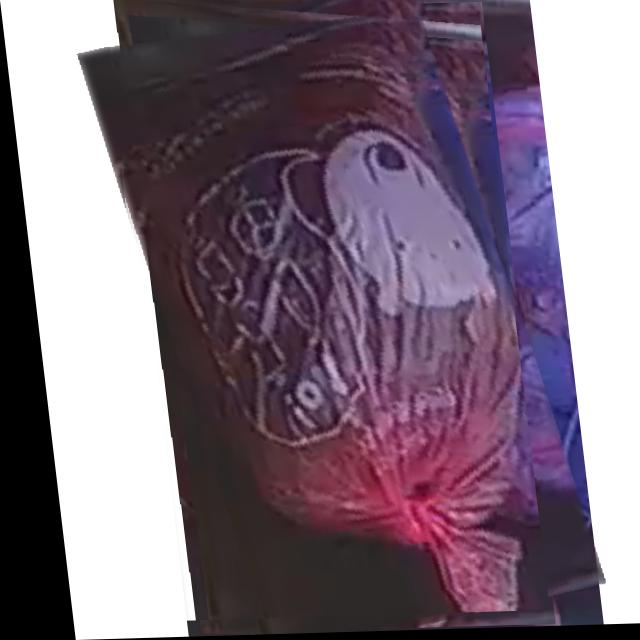other_trashbag: (115, 15, 512, 615)
